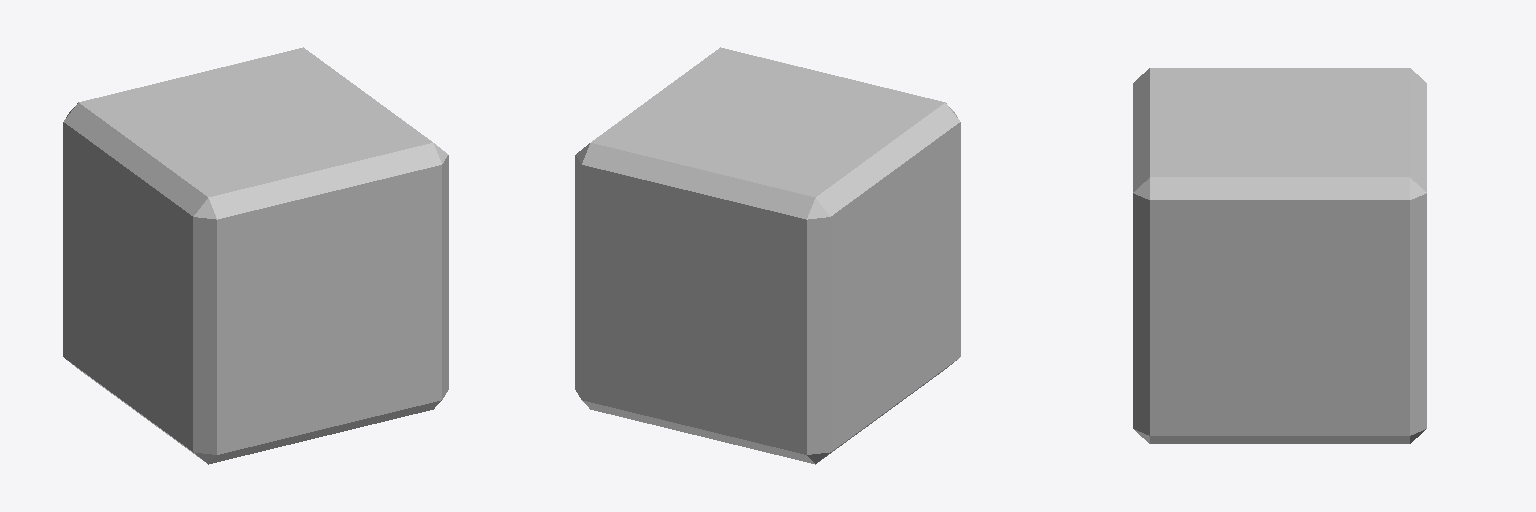
File: Bush_2.obj
The picture shows the model from 3 angles: view 1: azimuth 30°, elevation 25°; view 2: azimuth 150°, elevation 25°; view 3: azimuth 270°, elevation 25°; orthographic projection.
Visible parts, largest first — view 1: Bush_2_Cylinder.014; view 2: Bush_2_Cylinder.014; view 3: Bush_2_Cylinder.014.
Boxes of the visible parts, x1,y1,x2,y2 form: Bush_2_Cylinder.014: [63, 47, 448, 464]; Bush_2_Cylinder.014: [575, 47, 960, 464]; Bush_2_Cylinder.014: [1133, 68, 1426, 443].
Size of the model in its own units: 0.7415 by 0.7415 by 0.7415.